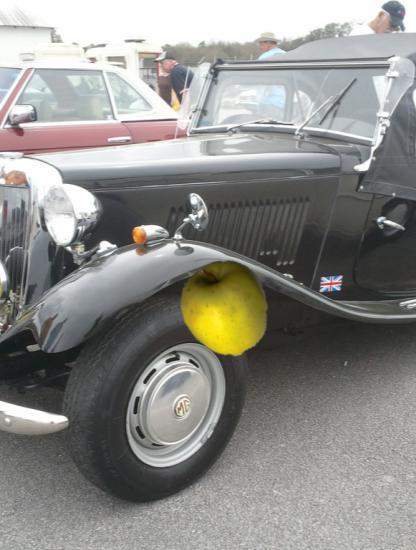Apple: (176, 260, 274, 358)
